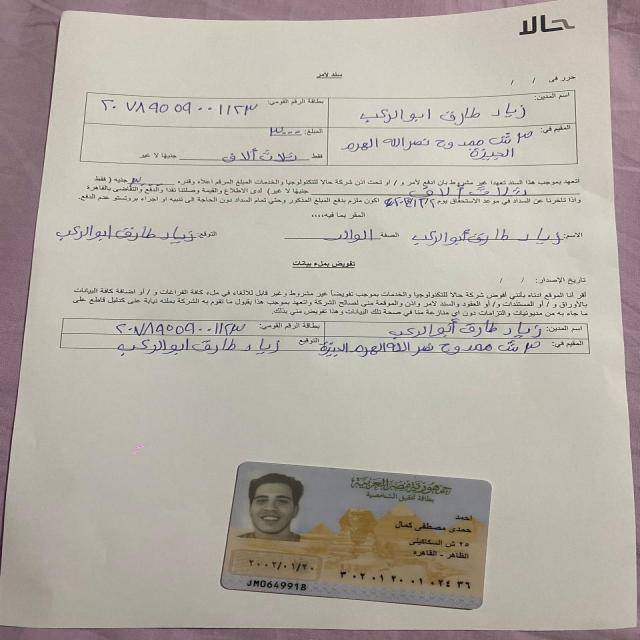id_card: (208, 459, 506, 620)
